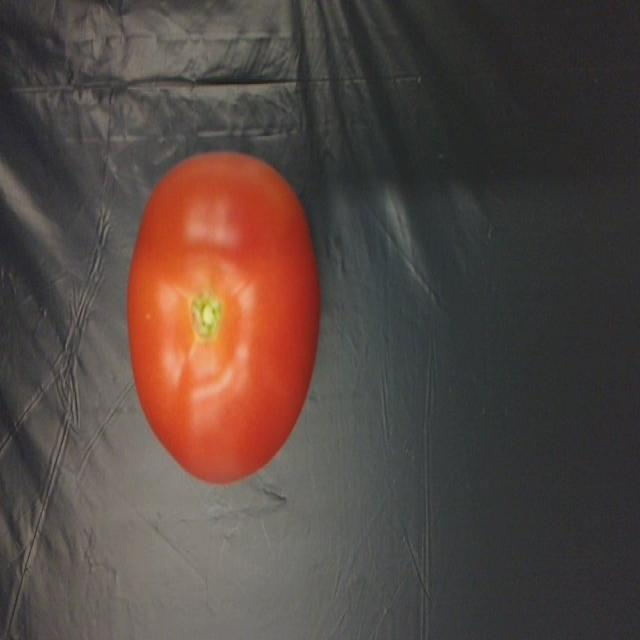sari: (120, 152, 337, 499)
